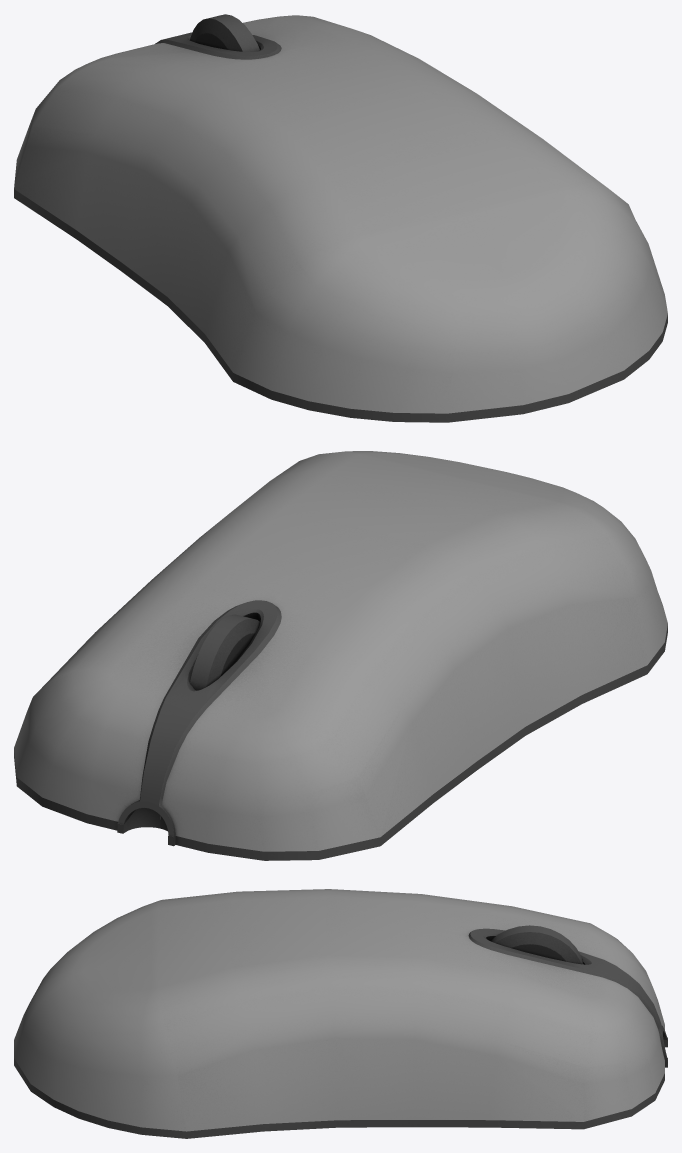
The model's file is optical_mouse.glb.
3 views of the same model, one above another, from view 1: azimuth 30°, elevation 25°; view 2: azimuth 150°, elevation 25°; view 3: azimuth 270°, elevation 25° (orthographic). The views are drawn at different scales.
Visible parts, largest first — view 1: Mouse_002_target; view 2: Mouse_002_target; view 3: Mouse_002_target.
Boxes of the visible parts, <box> form: Mouse_002_target: <box>14,14,667,422</box>; Mouse_002_target: <box>14,451,667,860</box>; Mouse_002_target: <box>14,889,667,1138</box>.
Bounding box in the file's own units: 0.0765 × 0.0282 × 0.128.
Materials: 1 (1 with a texture image).
